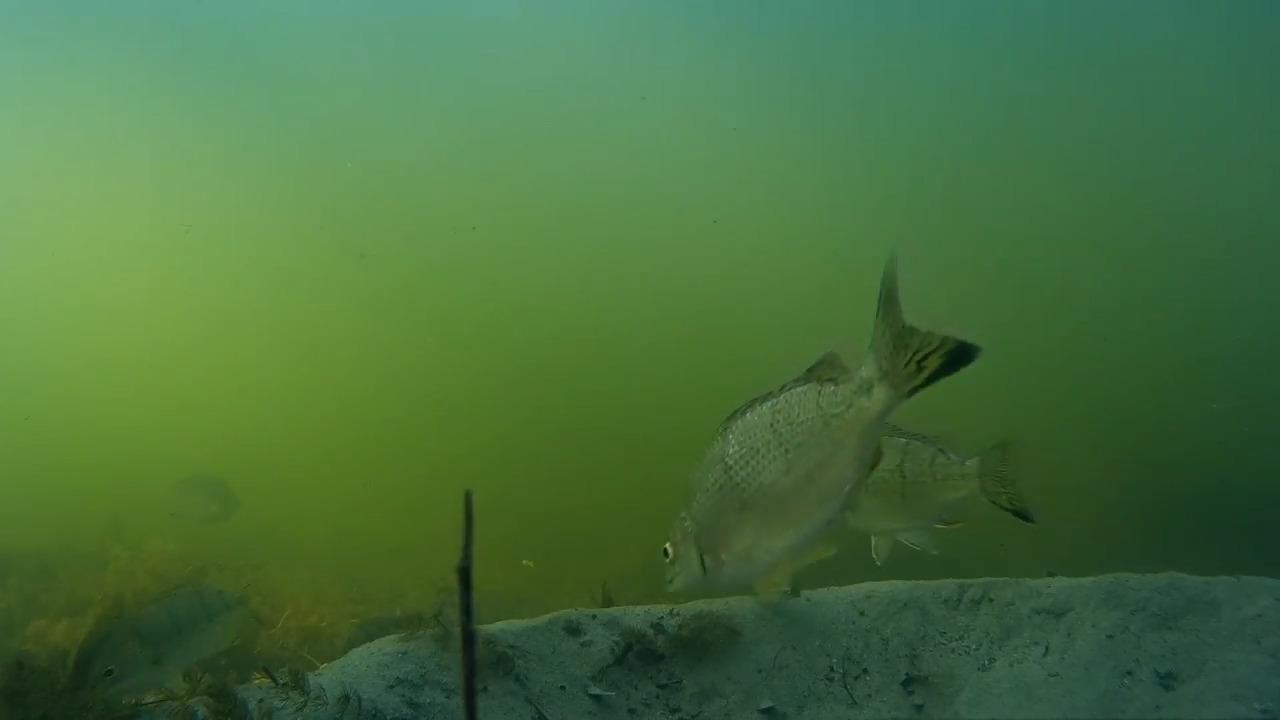Tilapia: (619, 235, 992, 601), (810, 406, 1059, 580), (63, 580, 279, 718), (145, 456, 252, 538)
